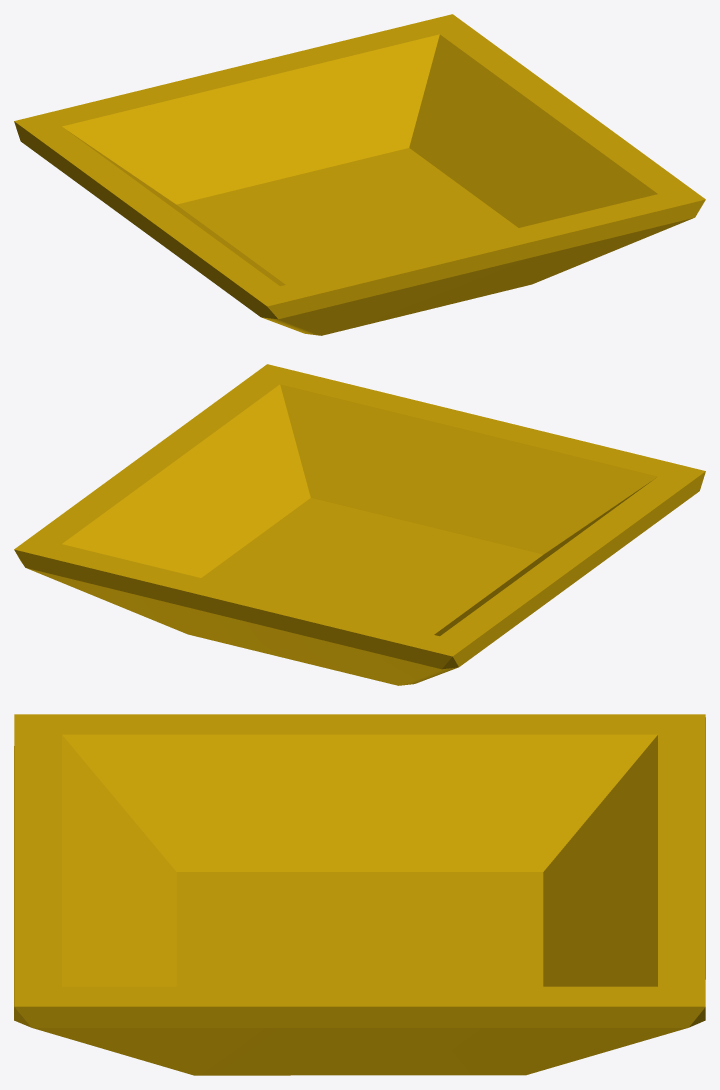
Rendered from Torch_Bowl_Model.fbx.
3 views of the same model, one above another, from view 1: azimuth 30°, elevation 25°; view 2: azimuth 150°, elevation 25°; view 3: azimuth 270°, elevation 25° (orthographic). The views are drawn at different scales.
Parts seen in each view (by area): view 1: Torch_Bowl_Model; view 2: Torch_Bowl_Model; view 3: Torch_Bowl_Model.
Boxes of the visible parts, x1=… form: Torch_Bowl_Model: x1=14, y1=14, x2=705, y2=335; Torch_Bowl_Model: x1=14, y1=364, x2=705, y2=685; Torch_Bowl_Model: x1=14, y1=714, x2=705, y2=1075.
Size of the model in its own units: 132 by 30.47 by 132.
